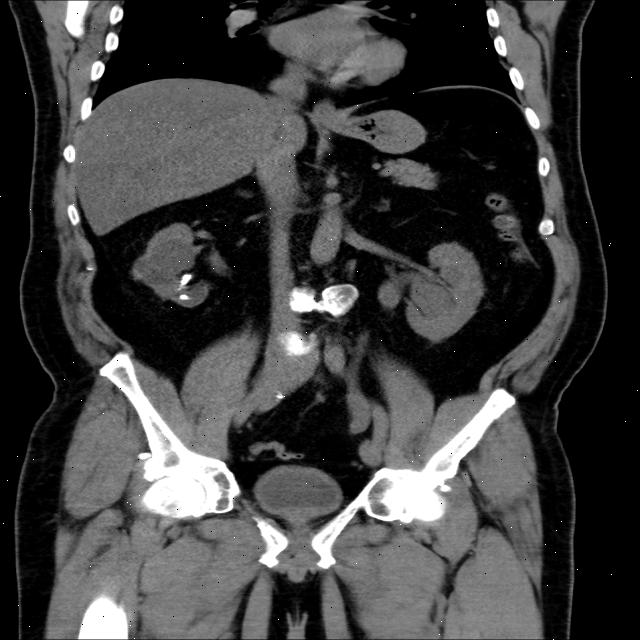kidneystone: (180, 274, 193, 286), (180, 294, 190, 300)
